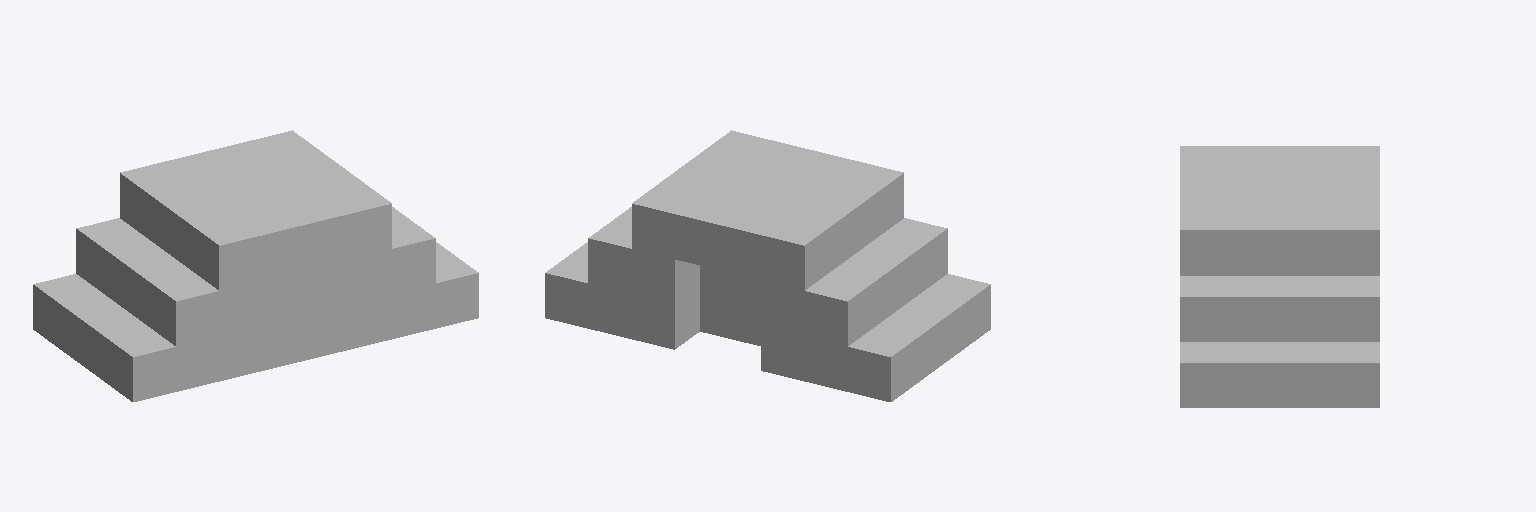
The model's file is civ_mine.obj.
3 renders of one model, left to right at view 1: azimuth 30°, elevation 25°; view 2: azimuth 150°, elevation 25°; view 3: azimuth 270°, elevation 25°, orthographic.
Visible parts, largest first — view 1: model; view 2: model; view 3: model.
Boxes of the visible parts, box(x1,y1,x2,y2) form: model: box(33, 130, 478, 401); model: box(545, 130, 990, 401); model: box(1180, 146, 1379, 407).
Size of the model in its own units: 0.5 by 0.1875 by 0.25.